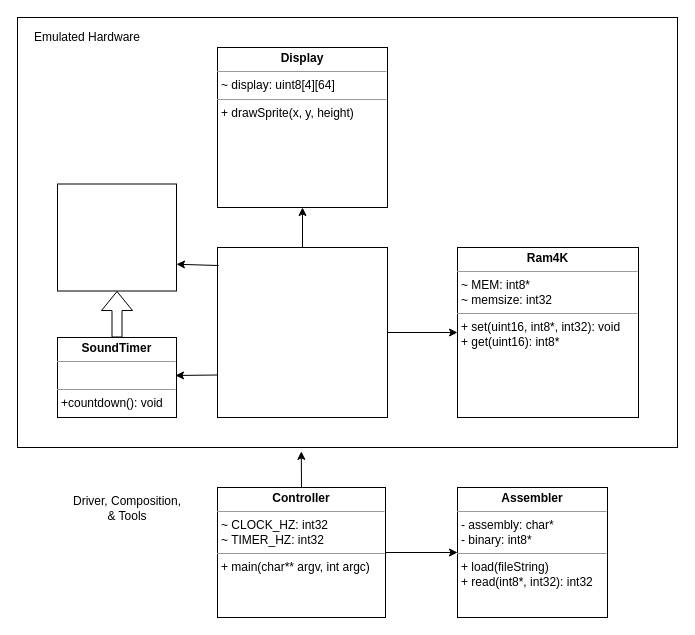
This 695x635 diagram has some shape labels left out. The shapes that lost their labels are listed below. From the top down, each one's centre as x and y in pixels, then its label:
point 116,237: Timer - timer: int8 + set(int8): void + read(): int8 + countdown(): void
point 302,332: Cpu ~ PC: uint16 ~ SP: uint16 ~ I: uint16 ~ V: int8[16] + tick(): void
